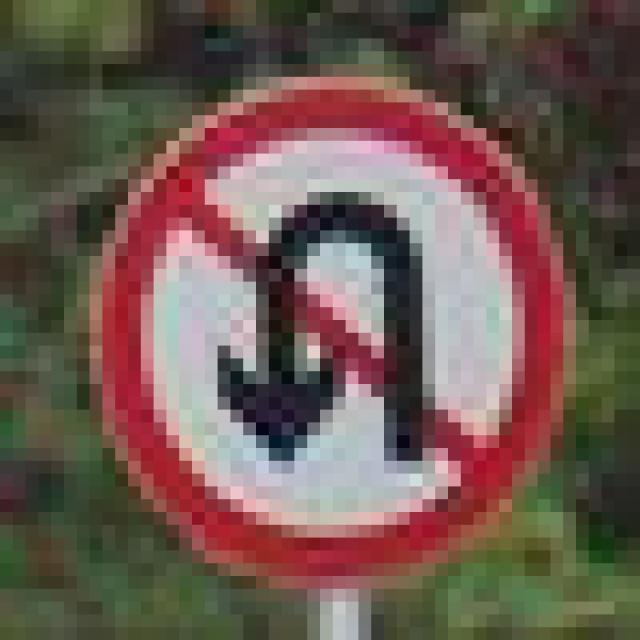u turn prohibited: (98, 78, 552, 597)
